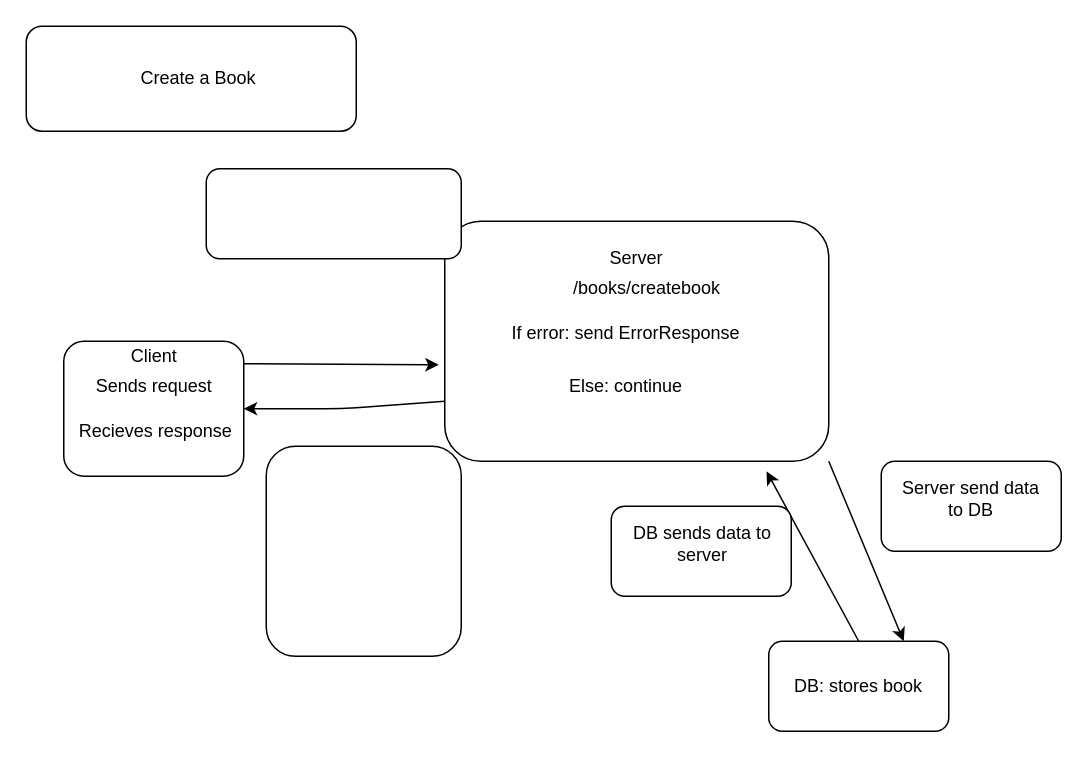
This 1088x758 diagram has some shape labels left out. Each missing label, with the box of its shape:
Clients sends body to server with book title, author and genre: (205, 167, 461, 259)
Server sends response with SuccessResponse OR ErrorResponse: (265, 445, 461, 656)
